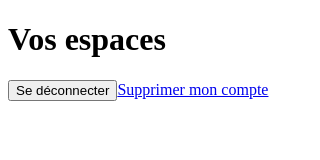
Test case: déconnexion depuis mes espaces (ADR 0044 §7) › ferme la session, vide les données lues et mène à la connexion
Click the button "Se déconnecter" at (63, 90), box [8,80,117,101]
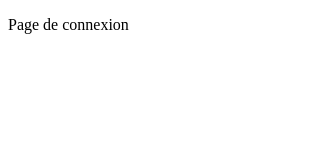
Expected: the text "Page de connexion" is shown, [8,16,129,33]
